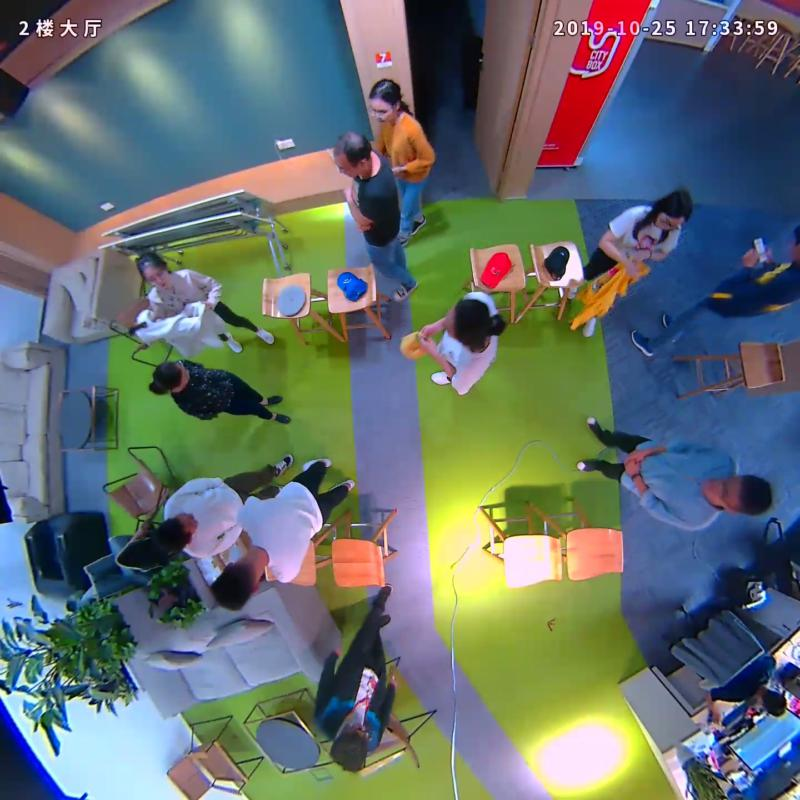head: (699, 475, 772, 517), (209, 558, 260, 611), (446, 298, 492, 348), (327, 721, 370, 774), (333, 131, 372, 180), (652, 188, 693, 232), (367, 79, 403, 125), (157, 511, 198, 550), (136, 251, 170, 290), (153, 361, 189, 392)
